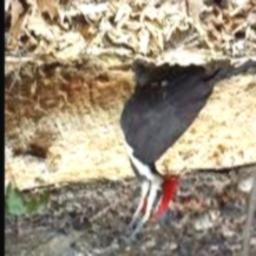Woodpecker: (119, 60, 256, 238)
